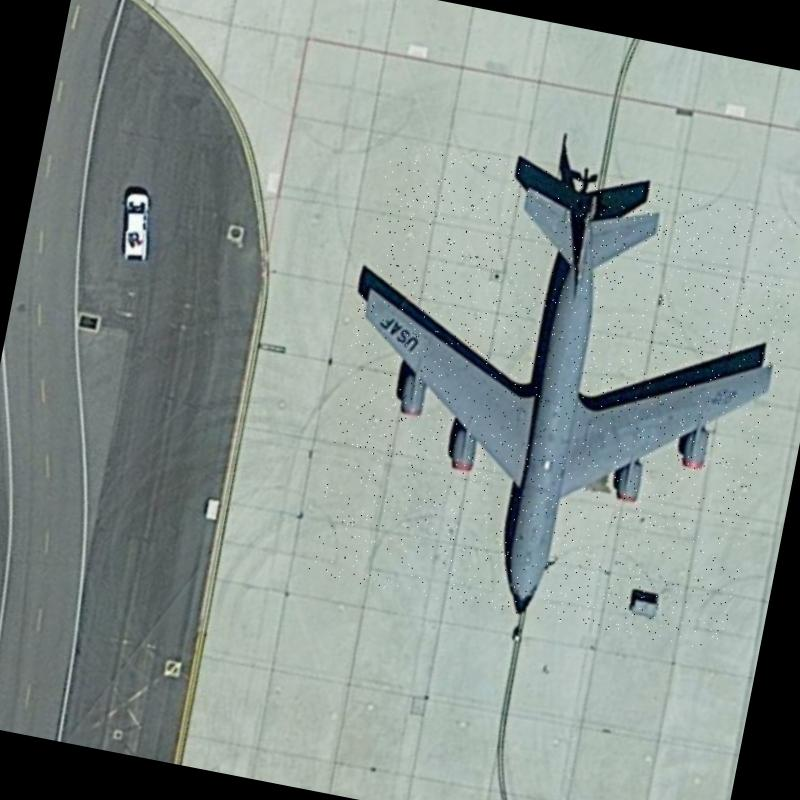A14: (306, 136, 800, 654)
